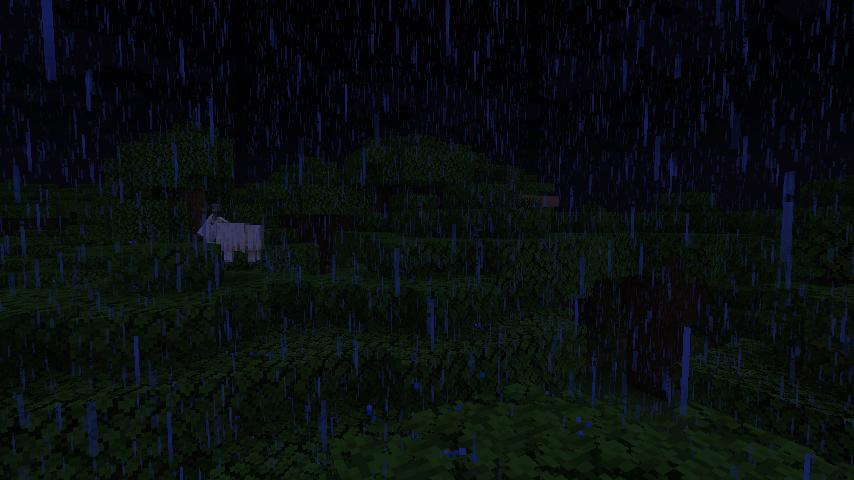goat: (197, 204, 266, 264)
